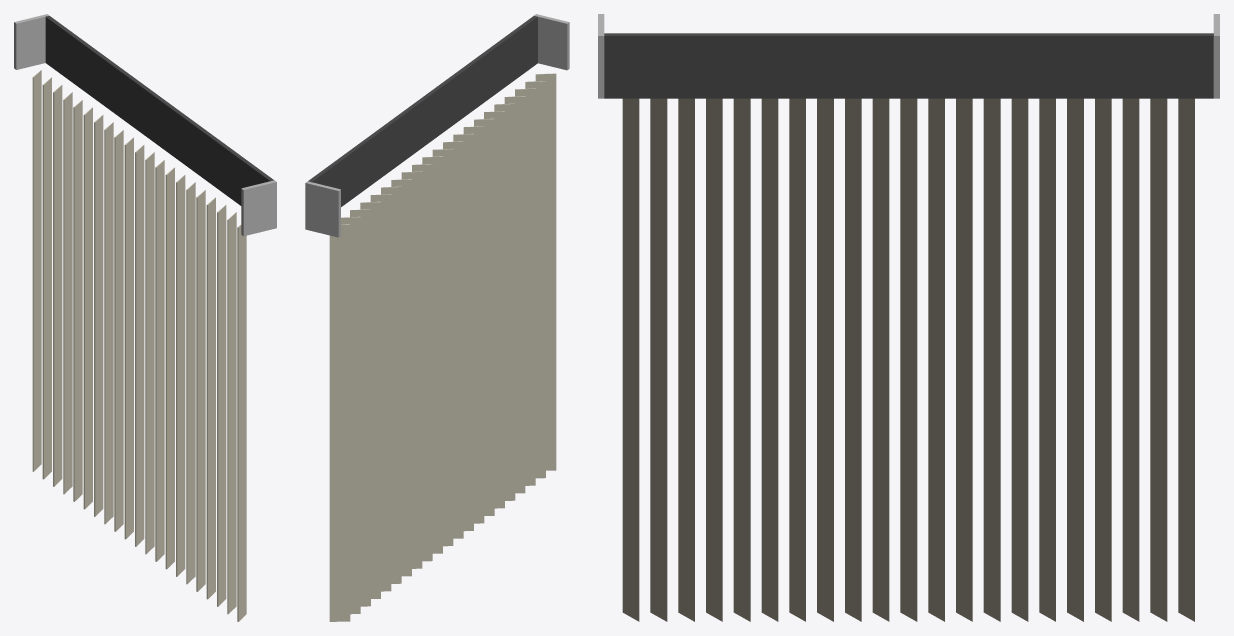
File: blinds.fbx
The picture shows the model from 3 angles, left to right: view 1: azimuth 30°, elevation 25°; view 2: azimuth 150°, elevation 25°; view 3: azimuth 270°, elevation 25°; orthographic projection. The views are drawn at different scales.
Visible parts, largest first — view 1: polySurface1; view 2: polySurface1; view 3: polySurface1.
Boxes of the visible parts, left/top/right/bottom form: polySurface1: left=14, top=14, right=276, bottom=621; polySurface1: left=305, top=14, right=569, bottom=621; polySurface1: left=598, top=14, right=1219, bottom=621.
Bounding box in the file's own units: 18.74 × 237 × 224.
